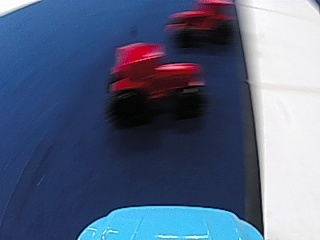tractor: (102, 39, 208, 121)
